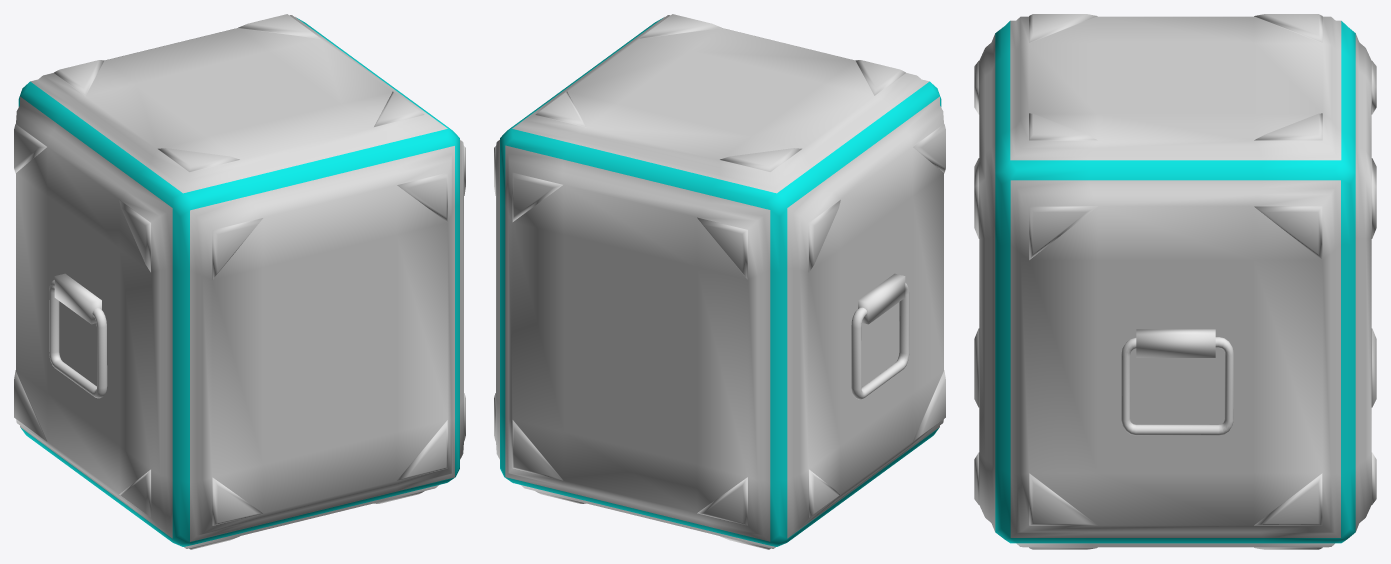
The model's file is Caisse_QuartierRiche_Poignee.fbx.
3 renders of one model, left to right at view 1: azimuth 30°, elevation 25°; view 2: azimuth 150°, elevation 25°; view 3: azimuth 270°, elevation 25°, orthographic. The views are drawn at different scales.
Parts seen in each view (by area): view 1: Cube.002; view 2: Cube.002; view 3: Cube.002.
Boxes of the visible parts, x1,y1,x2,y2 form: Cube.002: (14, 14, 465, 549); Cube.002: (494, 14, 945, 549); Cube.002: (974, 14, 1376, 549).
Size of the model in its own units: 98.05 by 108 by 94.53.
